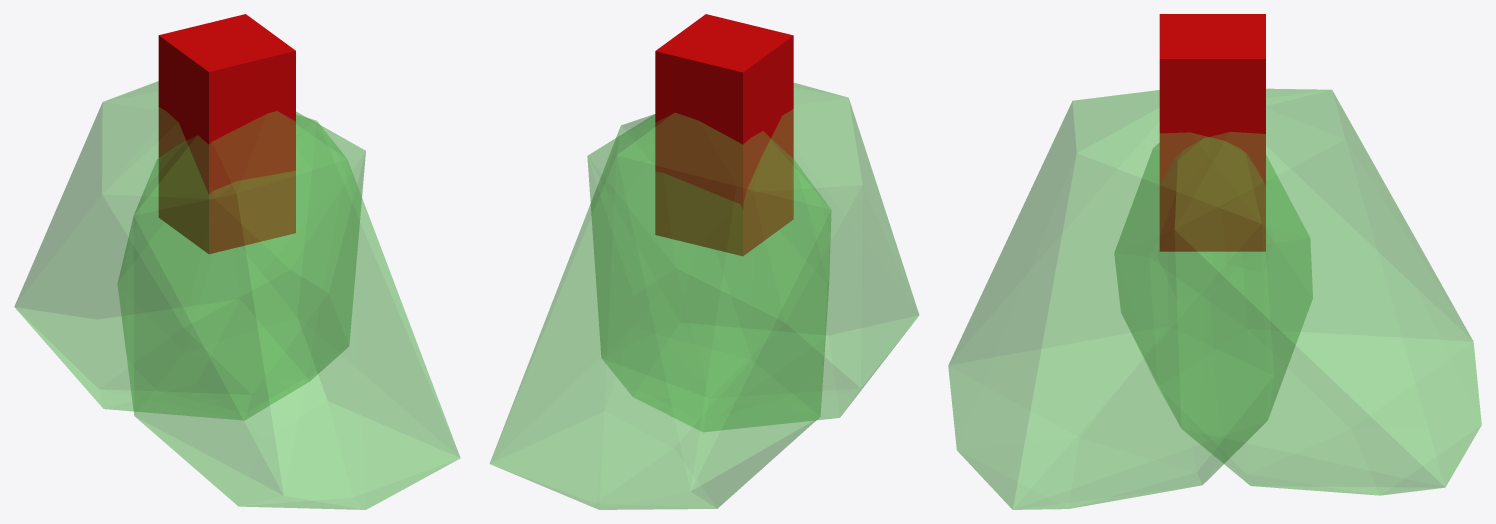
File: robot_trunk_view.dae
3 views of the same model, side by side, from view 1: azimuth 30°, elevation 25°; view 2: azimuth 150°, elevation 25°; view 3: azimuth 270°, elevation 25° (orthographic). The views are drawn at different scales.
Parts seen in each view (by area): view 1: Robot_Trunk_View, Robot_Trunk_View_001; view 2: Robot_Trunk_View, Robot_Trunk_View_001; view 3: Robot_Trunk_View, Robot_Trunk_View_001.
Part boxes in pixels (<box>): Robot_Trunk_View: <box>14,81,460,509</box>; Robot_Trunk_View_001: <box>158,14,295,254</box>; Robot_Trunk_View: <box>489,83,919,509</box>; Robot_Trunk_View_001: <box>655,14,793,256</box>; Robot_Trunk_View: <box>948,88,1481,509</box>; Robot_Trunk_View_001: <box>1159,14,1265,251</box>.
Bounding box in the file's own units: 0.8767 × 1.5 × 1.38.
